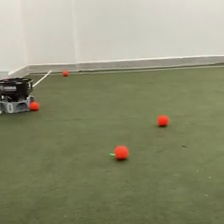ball: (113, 143, 129, 161), (157, 114, 168, 127), (28, 99, 39, 110), (61, 68, 69, 76)
robot: (1, 75, 34, 115)
